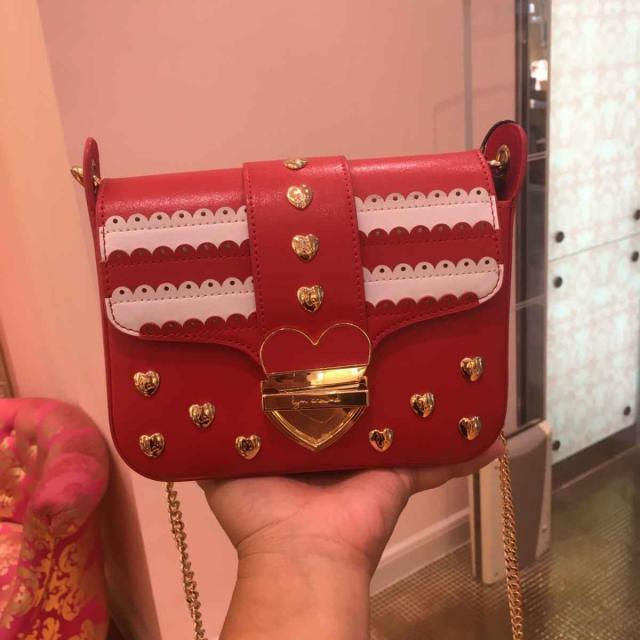bag: (56, 91, 567, 525)
